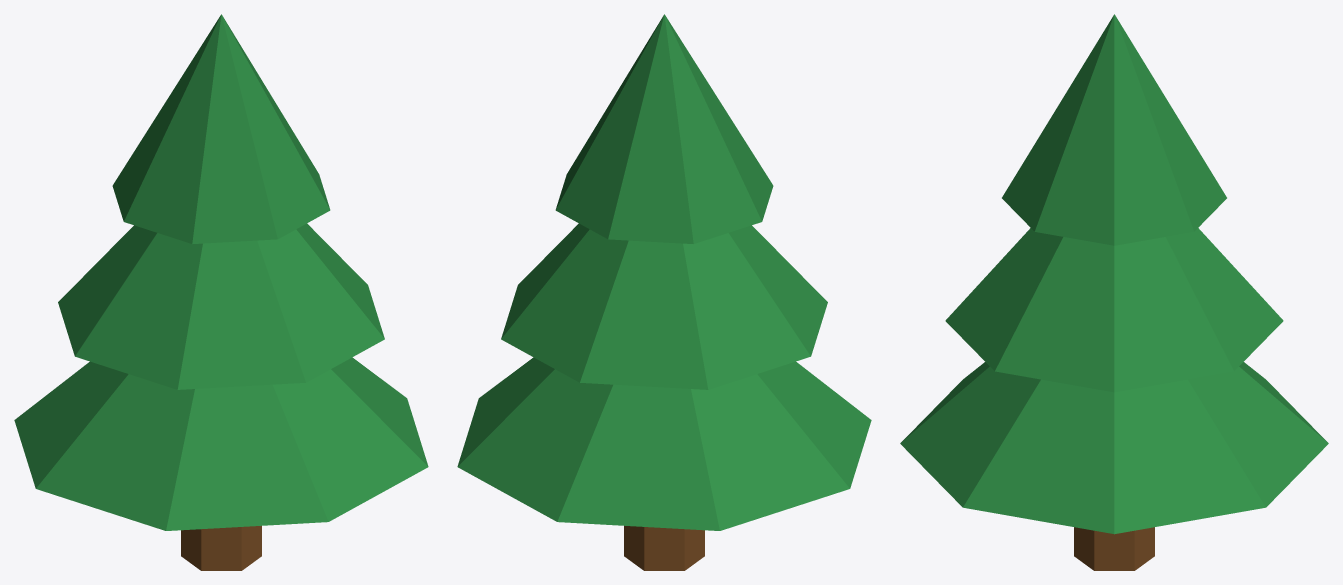
Rendered from p_pine.glb.
3 views of the same model, side by side, from view 1: azimuth 30°, elevation 25°; view 2: azimuth 150°, elevation 25°; view 3: azimuth 270°, elevation 25° (orthographic).
Visible parts, largest first — view 1: L0, L1, L2, Trunk; view 2: L0, L1, L2, Trunk; view 3: L0, L1, L2, Trunk.
Part boxes in pixels (left/top/right/bottom): L0: left=14, top=357, right=428, bottom=530; L1: left=58, top=223, right=384, bottom=389; L2: left=112, top=14, right=330, bottom=243; Trunk: left=181, top=526, right=261, bottom=570; L0: left=457, top=357, right=871, bottom=530; L1: left=501, top=223, right=827, bottom=389; L2: left=555, top=14, right=773, bottom=243; Trunk: left=624, top=526, right=704, bottom=570; L0: left=900, top=362, right=1328, bottom=534; L1: left=945, top=228, right=1283, bottom=392; L2: left=1002, top=14, right=1226, bottom=245; Trunk: left=1074, top=527, right=1154, bottom=570.
Size of the model in its own units: 1.9 by 2.65 by 1.9.
